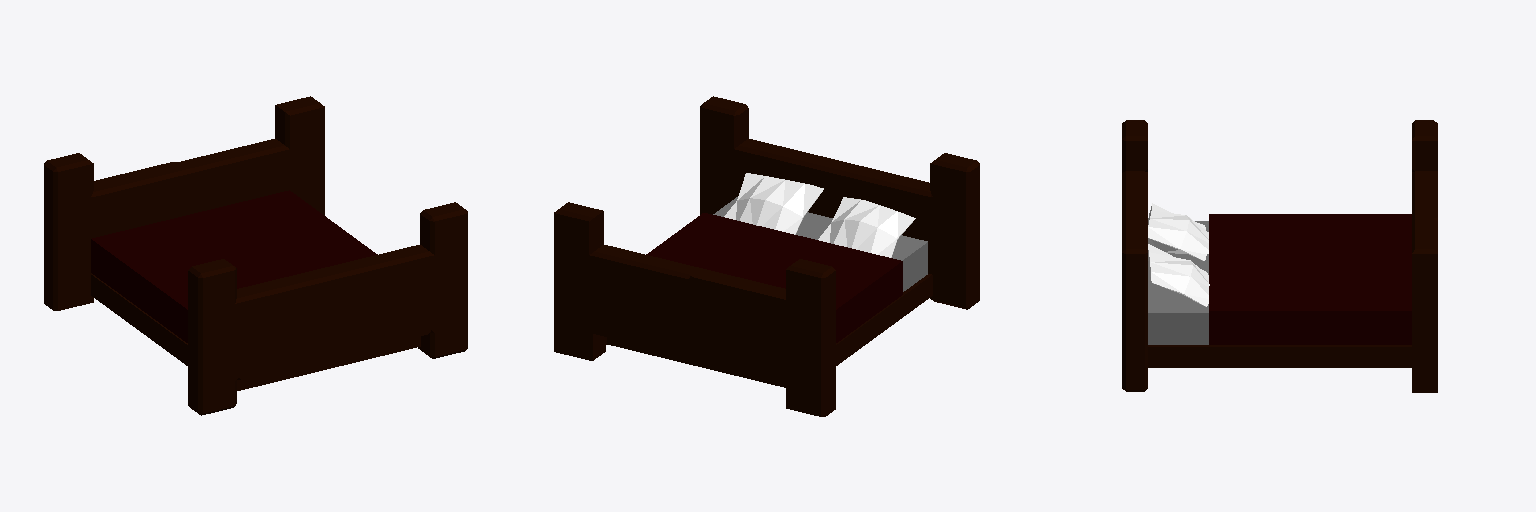
The model's file is Bed_couple.obj.
3 renders of one model, left to right at view 1: azimuth 30°, elevation 25°; view 2: azimuth 150°, elevation 25°; view 3: azimuth 270°, elevation 25°, orthographic.
Visible parts, largest first — view 1: Bed_Couple_Cube.006; view 2: Bed_Couple_Cube.006; view 3: Bed_Couple_Cube.006.
Part boxes in pixels (x1,y1,x2,y2): Bed_Couple_Cube.006: (44,96,467,415); Bed_Couple_Cube.006: (554,96,979,416); Bed_Couple_Cube.006: (1122,120,1437,392).
Bounding box in the file's own units: 3.19 × 1.6 × 3.23.